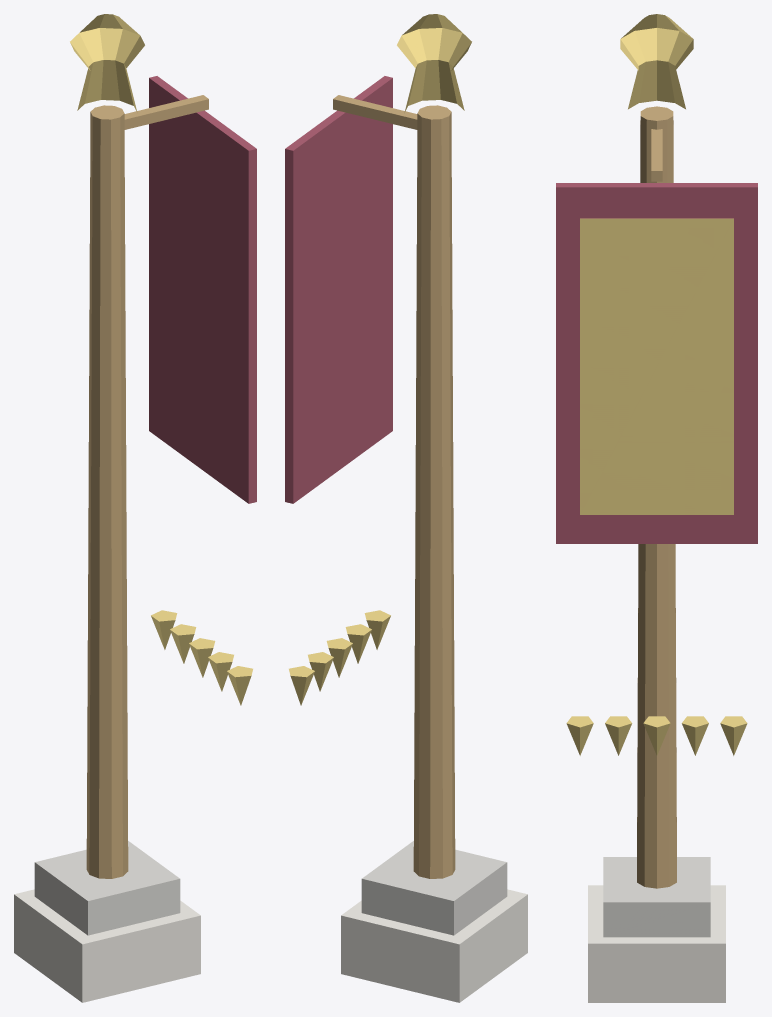
Rendered from mythic-underworld-and-olympus-banner-pole-58df3b76__21389.glb.
The picture shows the model from 3 angles, left to right: view 1: azimuth 30°, elevation 25°; view 2: azimuth 150°, elevation 25°; view 3: azimuth 270°, elevation 25°; orthographic projection.
Visible parts, largest first — view 1: banner-pole; view 2: banner-pole; view 3: banner-pole.
Boxes of the visible parts, x1,y1,x2,y2 form: banner-pole: [14, 14, 256, 1002]; banner-pole: [285, 14, 527, 1002]; banner-pole: [556, 14, 757, 1002].
Size of the model in its own units: 1.02 by 5.48 by 1.05.
